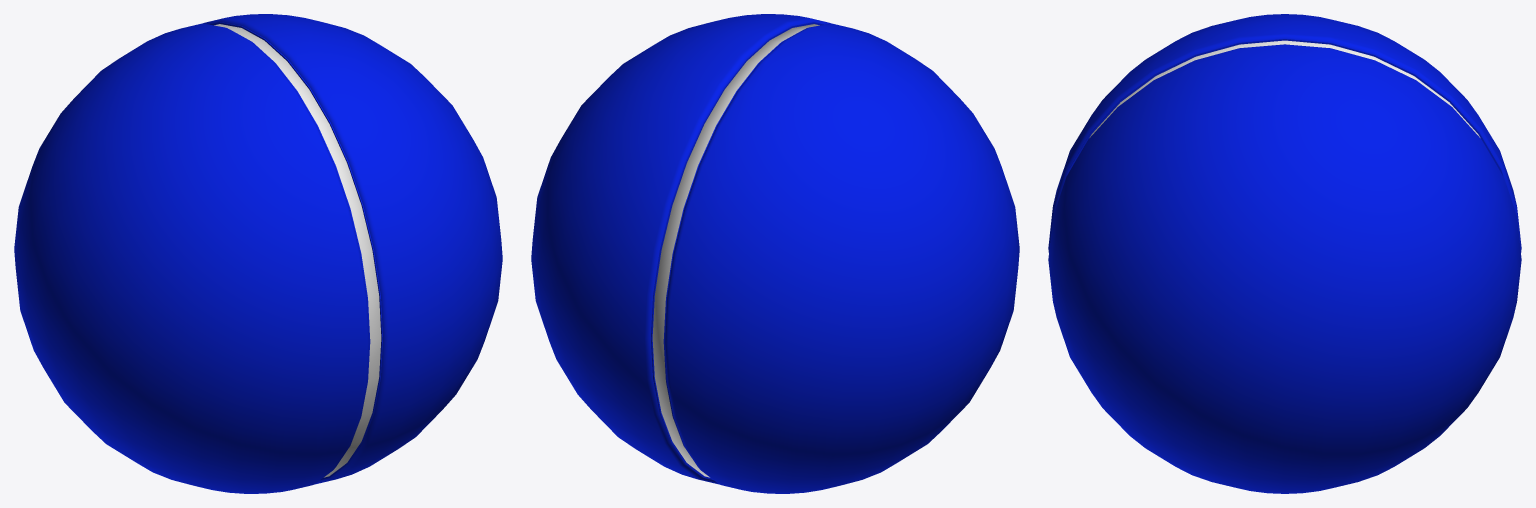
The model's file is ballsBl.fbx.
The picture shows the model from 3 angles, left to right: view 1: azimuth 30°, elevation 25°; view 2: azimuth 150°, elevation 25°; view 3: azimuth 270°, elevation 25°; orthographic projection.
Parts seen in each view (by area): view 1: Sphere.009, Sphere.008, Circle.002; view 2: Sphere.009, Sphere.008, Circle.002; view 3: Sphere.008, Sphere.009, Circle.002.
Boxes of the visible parts, bbox=[...] form: Sphere.009: bbox=[14, 23, 370, 493]; Sphere.008: bbox=[202, 14, 502, 484]; Circle.002: bbox=[214, 24, 381, 477]; Sphere.009: bbox=[663, 23, 1019, 493]; Sphere.008: bbox=[531, 14, 831, 484]; Circle.002: bbox=[652, 24, 819, 477]; Sphere.008: bbox=[1048, 44, 1521, 493]; Sphere.009: bbox=[1048, 14, 1521, 252]; Circle.002: bbox=[1089, 40, 1480, 137].
Size of the model in its own units: 214 by 207 by 207.
